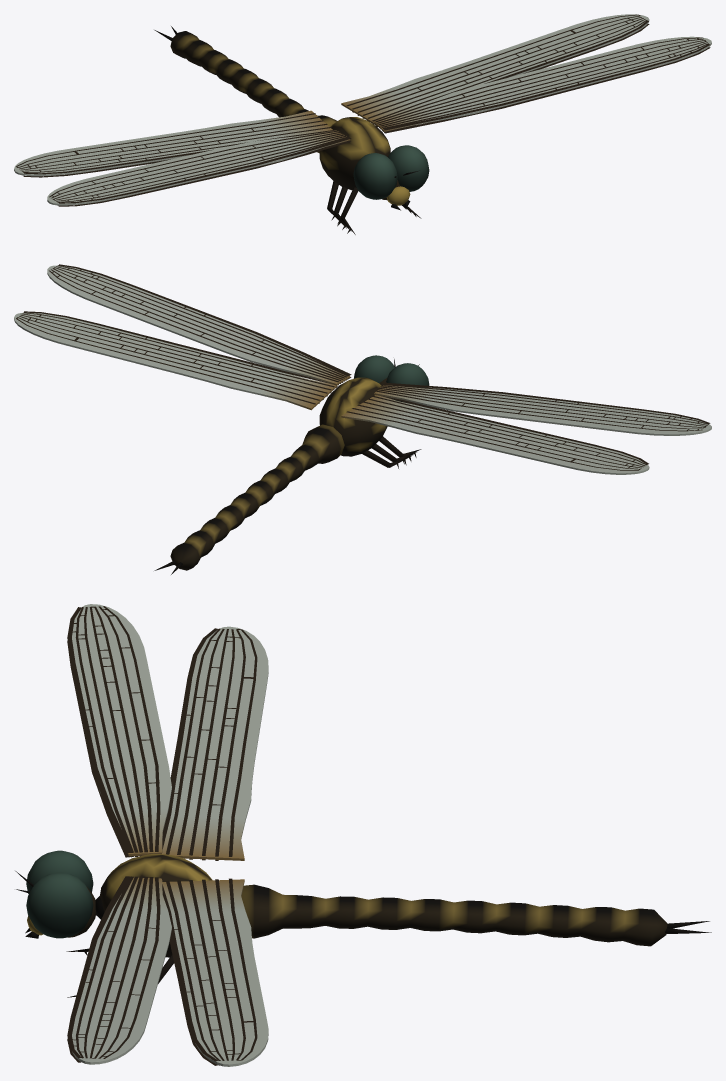
The model's file is Meganeura.fbx.
3 renders of one model, top to bottom at view 1: azimuth 30°, elevation 25°; view 2: azimuth 150°, elevation 25°; view 3: azimuth 270°, elevation 25°, orthographic. The views are drawn at different scales.
Parts seen in each view (by area): view 1: Meganeura; view 2: Meganeura; view 3: Meganeura.
Boxes of the visible parts, x1,y1,x2,y2 form: Meganeura: (14,14,711,234); Meganeura: (14,264,711,574); Meganeura: (15,604,711,1066).
Size of the model in its own units: 1.68 by 0.253 by 1.08.
